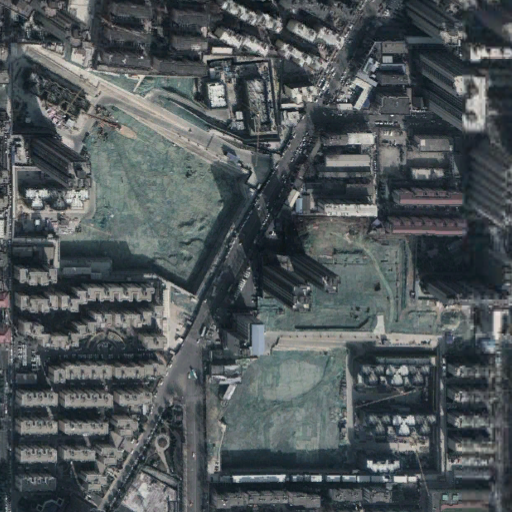cw: (73, 103, 251, 309), (258, 221, 437, 336), (216, 358, 350, 471), (91, 68, 215, 132)
